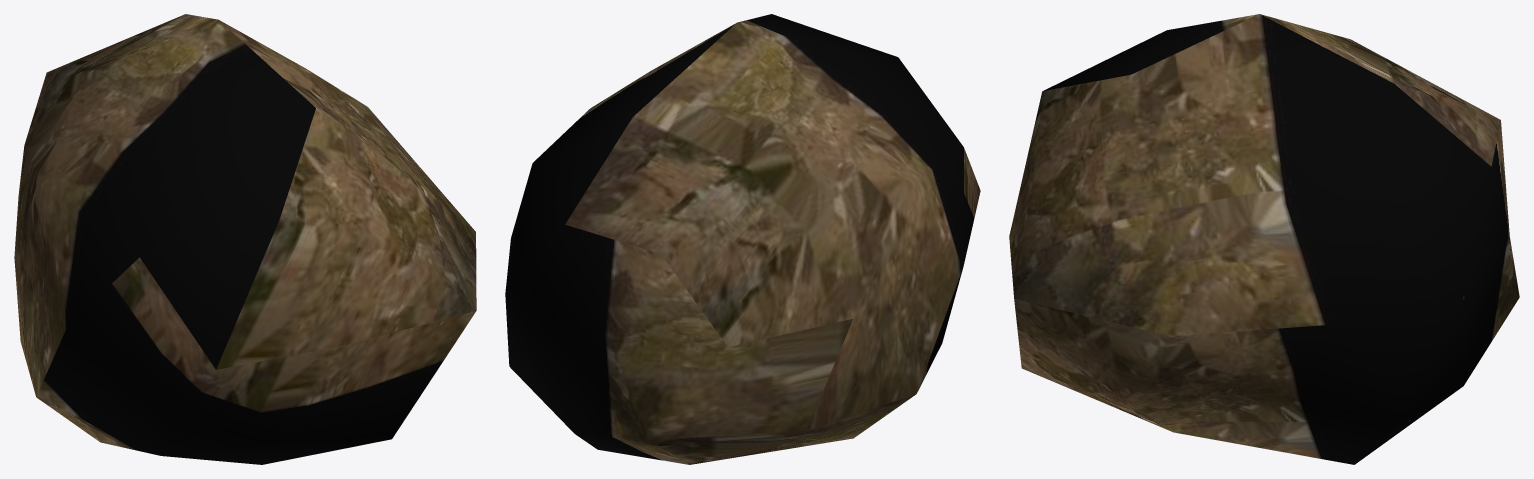
Rendered from mineral.glb.
The picture shows the model from 3 angles, left to right: view 1: azimuth 30°, elevation 25°; view 2: azimuth 150°, elevation 25°; view 3: azimuth 270°, elevation 25°; orthographic projection. The views are drawn at different scales.
Visible parts, largest first — view 1: mineral; view 2: mineral; view 3: mineral.
Boxes of the visible parts, x1,y1,x2,y2 form: mineral: (14, 14, 476, 464); mineral: (505, 14, 980, 464); mineral: (1009, 14, 1519, 464).
Size of the model in its own units: 0.1435 by 0.1446 by 0.1632.
Materials: 1 (1 with a texture image).
